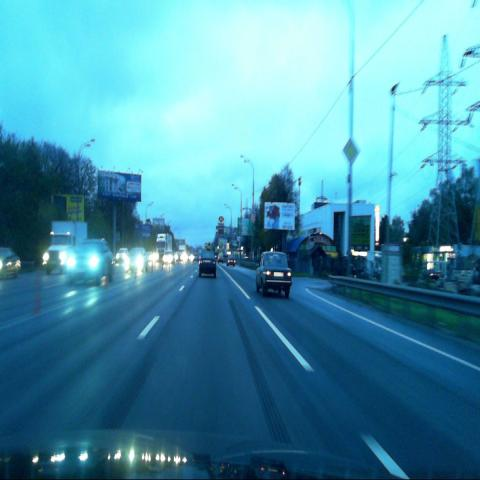2_1: (342, 137, 360, 166)
